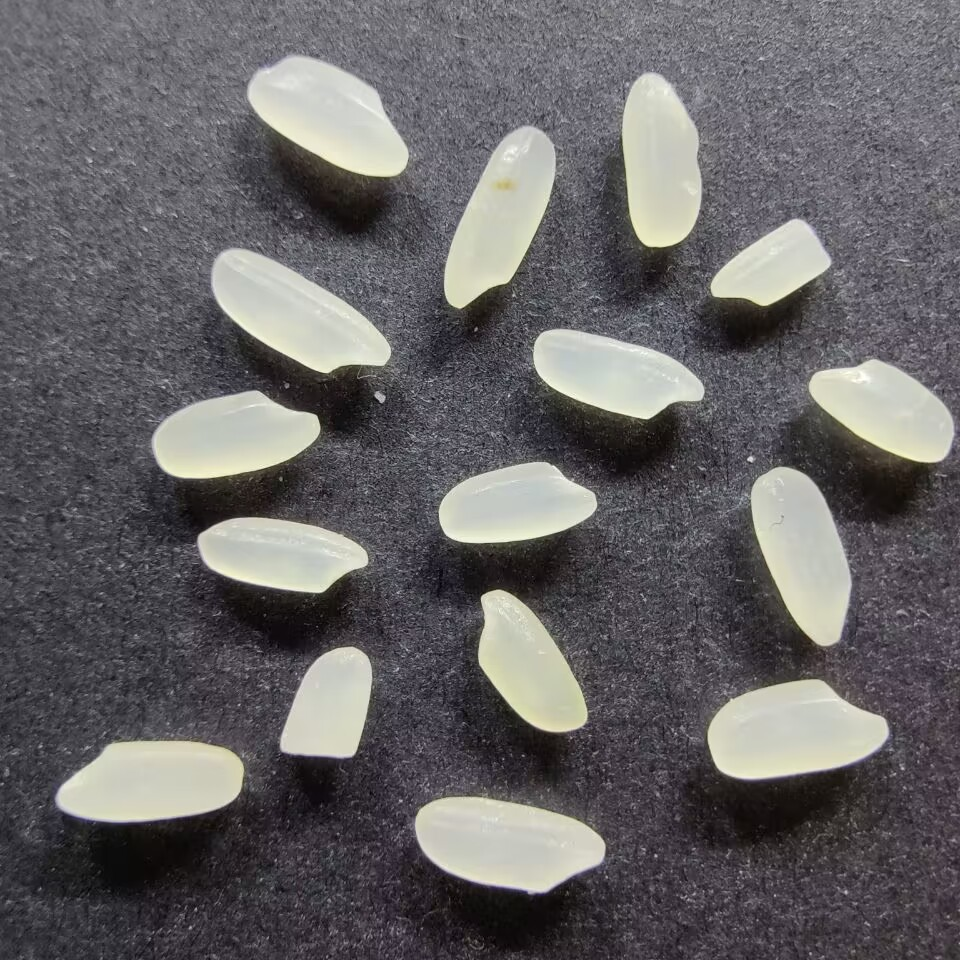broken: (708, 217, 834, 307), (279, 646, 373, 758)
rice: (209, 246, 392, 374), (442, 125, 557, 311), (246, 53, 411, 178), (413, 795, 606, 895), (705, 678, 890, 781), (750, 465, 852, 645), (477, 587, 589, 733), (54, 738, 245, 823), (531, 327, 707, 419), (807, 357, 955, 465), (151, 388, 321, 480), (620, 70, 703, 249), (196, 515, 367, 594), (438, 461, 598, 544)
